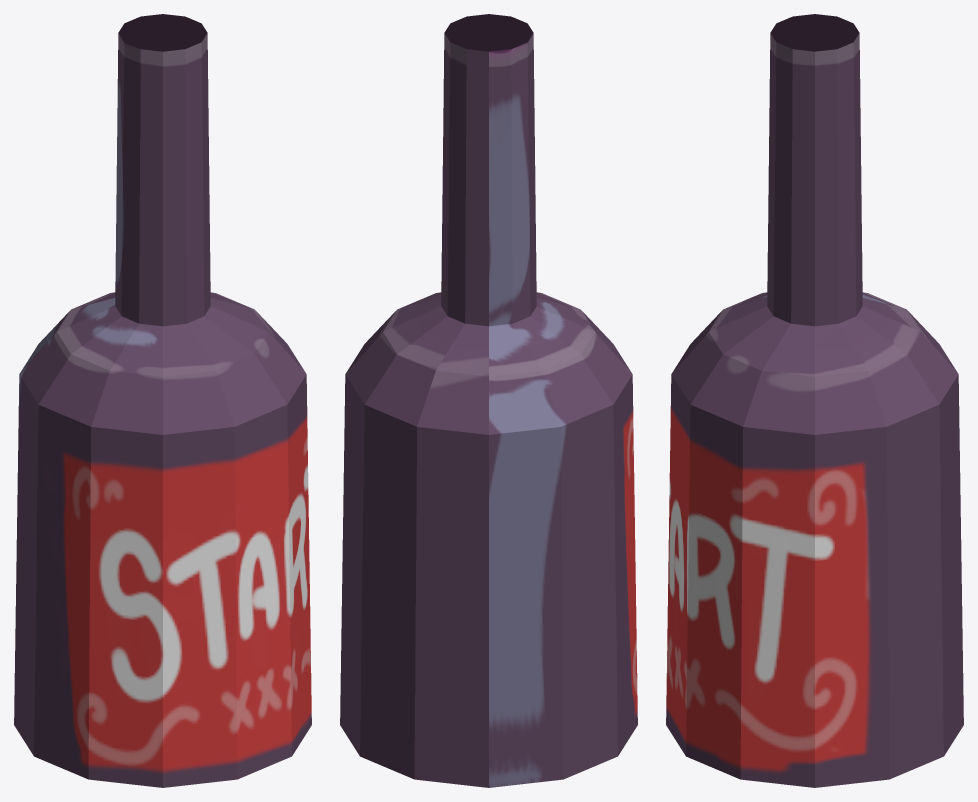
Rendered from bottle.dae.
3 renders of one model, left to right at view 1: azimuth 30°, elevation 25°; view 2: azimuth 150°, elevation 25°; view 3: azimuth 270°, elevation 25°, orthographic.
Visible parts, largest first — view 1: Cylinder; view 2: Cylinder; view 3: Cylinder.
Part boxes in pixels (x1,y1,x2,y2): Cylinder: (14,14,311,787); Cylinder: (340,14,637,787); Cylinder: (666,14,963,787).
Bounding box in the file's own units: 0.1834 × 0.1834 × 0.4702.
Materials: 1 (1 with a texture image).
